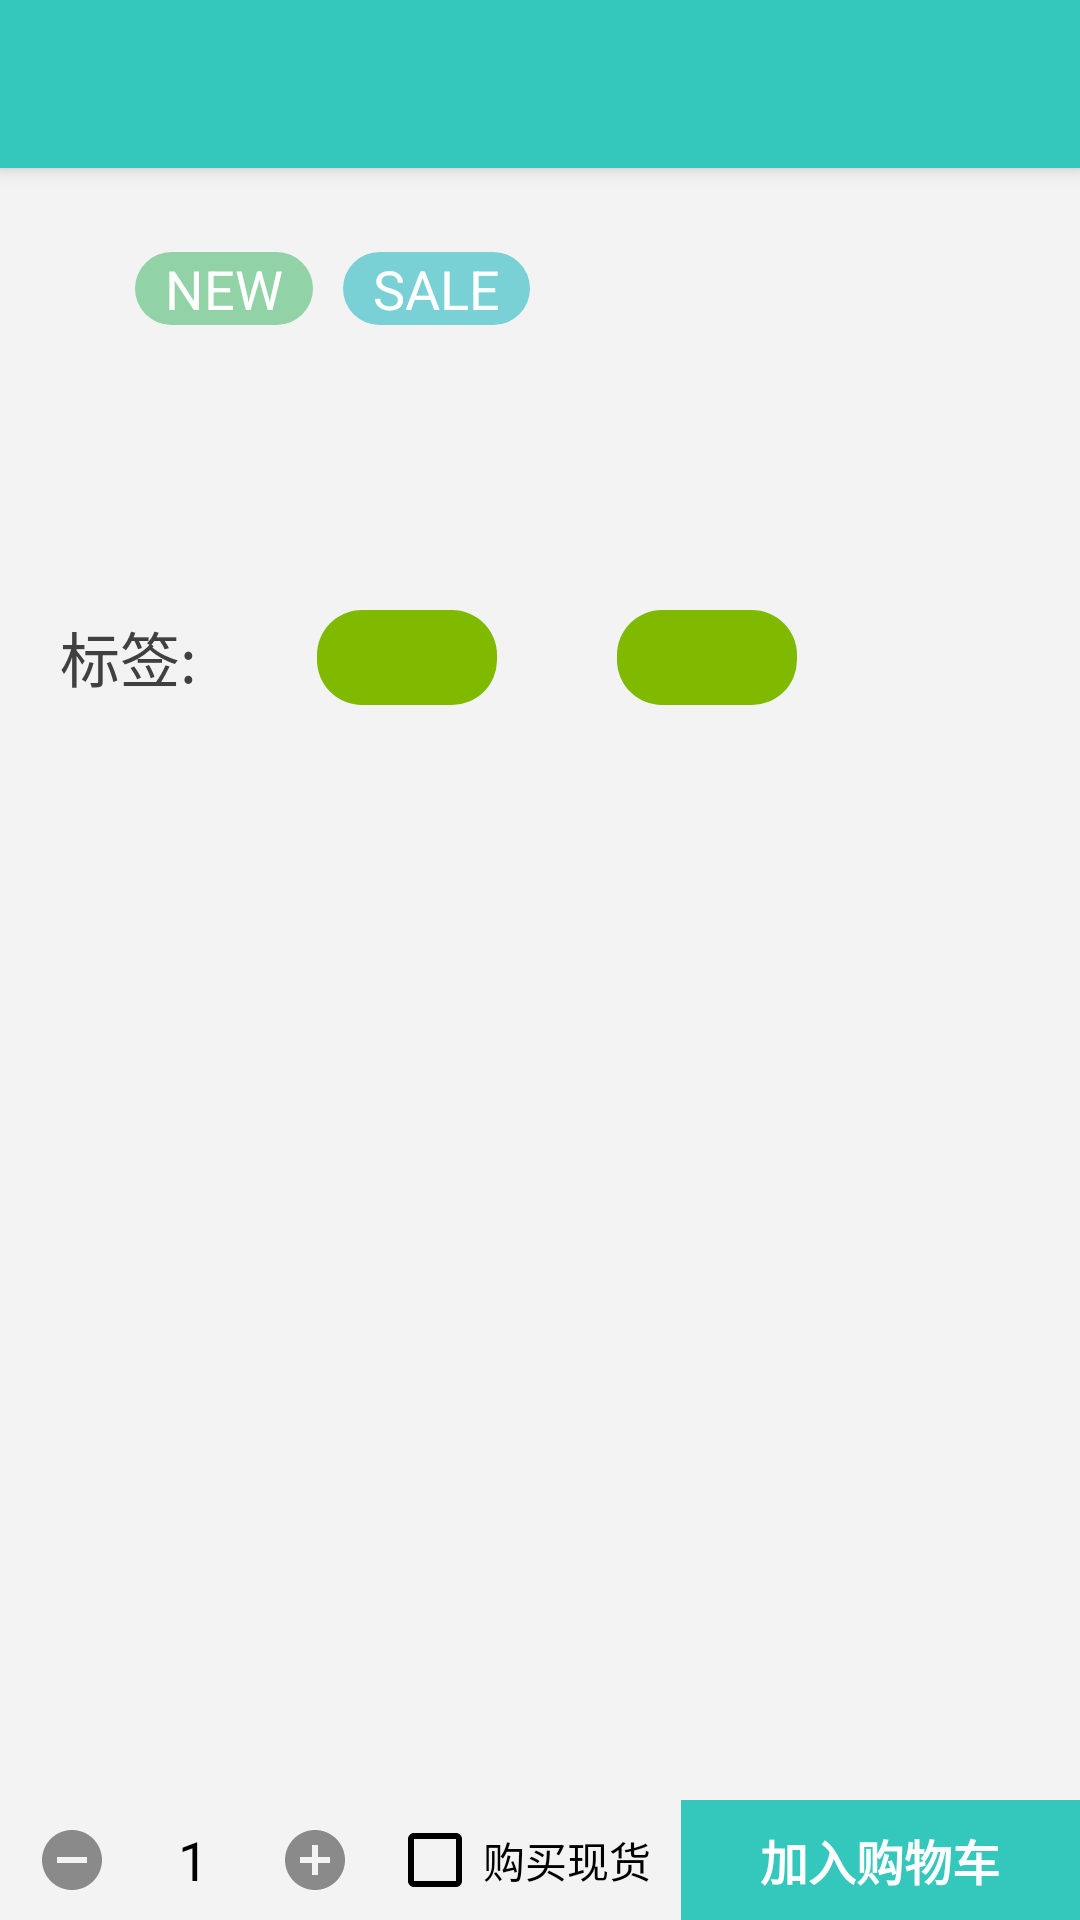

Icon bounding boxes for this 1080w x 1920h phone screenshot, format [x1, y1, x2, y2]:
add circle: [285, 1830, 345, 1890]
remove circle: [42, 1830, 102, 1890]
